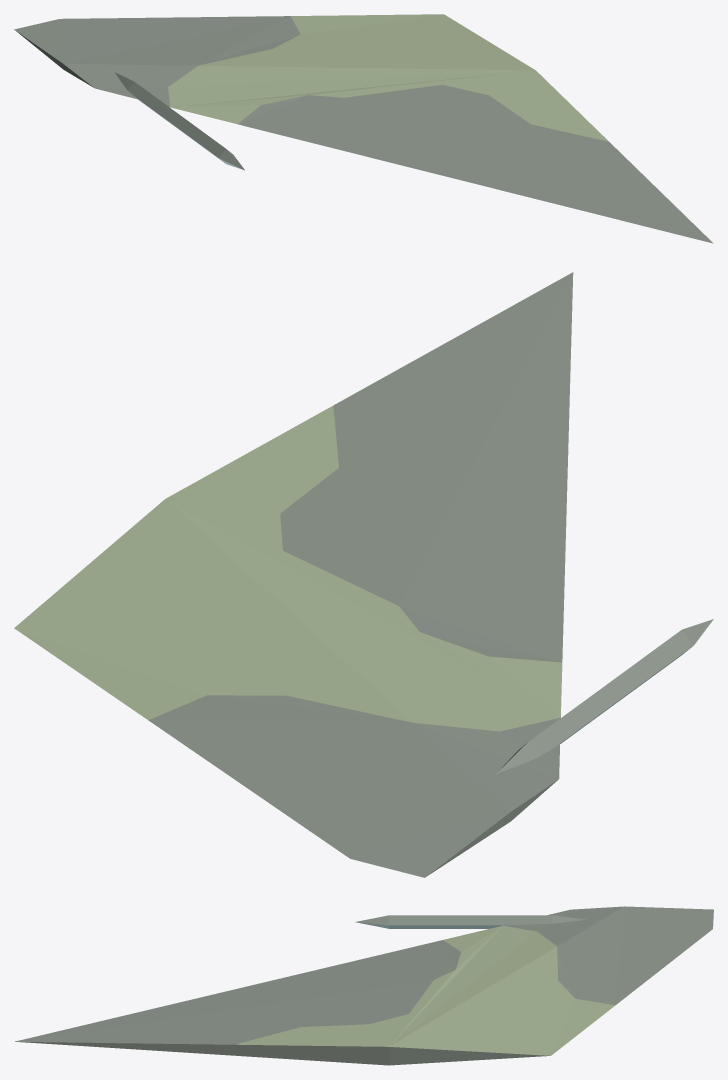
File: cold_war_planes_su_22m4_gdr_surf_elevatorRight.gltf
3 renders of one model, top to bottom at view 1: azimuth 30°, elevation 25°; view 2: azimuth 150°, elevation 25°; view 3: azimuth 270°, elevation 25°, orthographic. The views are drawn at different scales.
Visible parts, largest first — view 1: 0_0_#424c42, 0_1_#60744c; view 2: 0_0_#424c42, 0_1_#60744c; view 3: 0_0_#424c42, 0_1_#60744c, 0_2_#87bec9.
Boxes of the visible parts, left/top/right/bottom form: 0_0_#424c42: left=14, top=16, right=713, bottom=243; 0_1_#60744c: left=168, top=14, right=608, bottom=141; 0_0_#424c42: left=148, top=272, right=713, bottom=877; 0_1_#60744c: left=14, top=406, right=562, bottom=731; 0_0_#424c42: left=15, top=906, right=713, bottom=1065; 0_1_#60744c: left=236, top=925, right=614, bottom=1055; 0_2_#87bec9: left=357, top=922, right=503, bottom=928.
Bounding box in the file's own units: 1.69 × 0.1 × 3.4.
